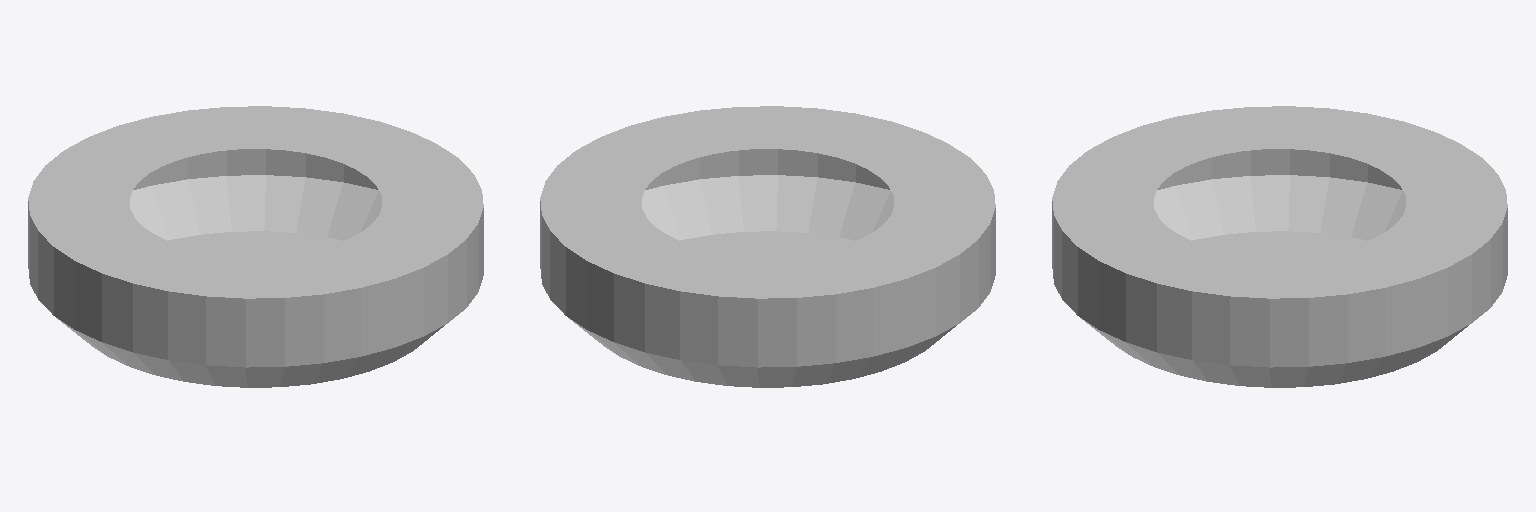
File: original-108.obj
3 renders of one model, left to right at view 1: azimuth 30°, elevation 25°; view 2: azimuth 150°, elevation 25°; view 3: azimuth 270°, elevation 25°, orthographic.
Parts seen in each view (by area): view 1: #ID544; view 2: #ID544; view 3: #ID544.
Boxes of the visible parts, box(x1,y1,x2,y2) form: #ID544: box(28, 106, 483, 387); #ID544: box(540, 106, 995, 387); #ID544: box(1052, 106, 1507, 387).
Bounding box in the file's own units: 0.0836 × 0.0217 × 0.0836.